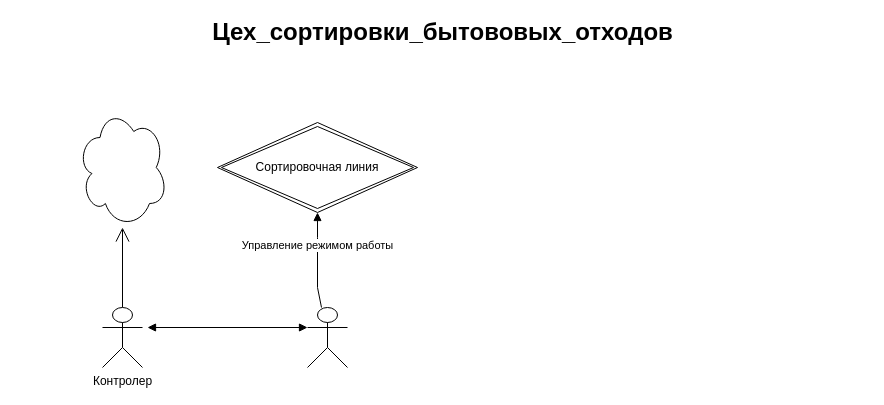
The diagram is 884 pixels wide and 405 high, and some of its shapes have lost their labels. The shapes that lost their labels are listed below. From the top down, each one's box as (x1, y1, x2, y2) in pixels, then its label:
(76, 106, 168, 228): Партия бытовых отходов
(306, 306, 348, 368): Оператор
